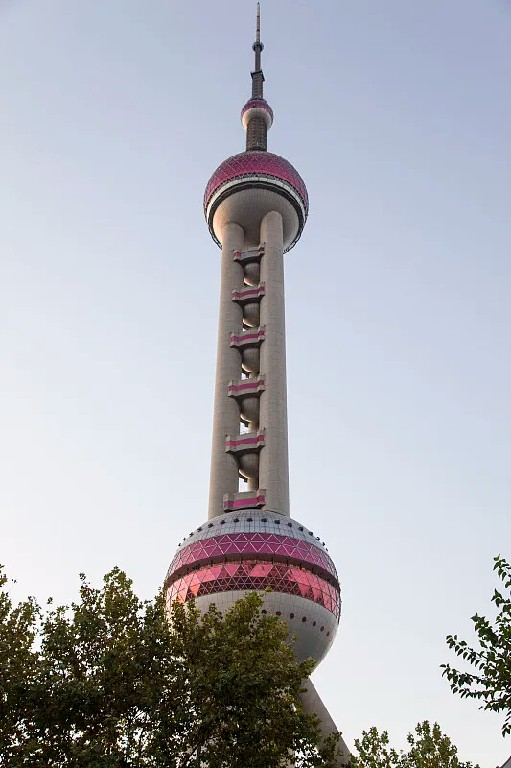Oriental: (165, 2, 360, 768)
